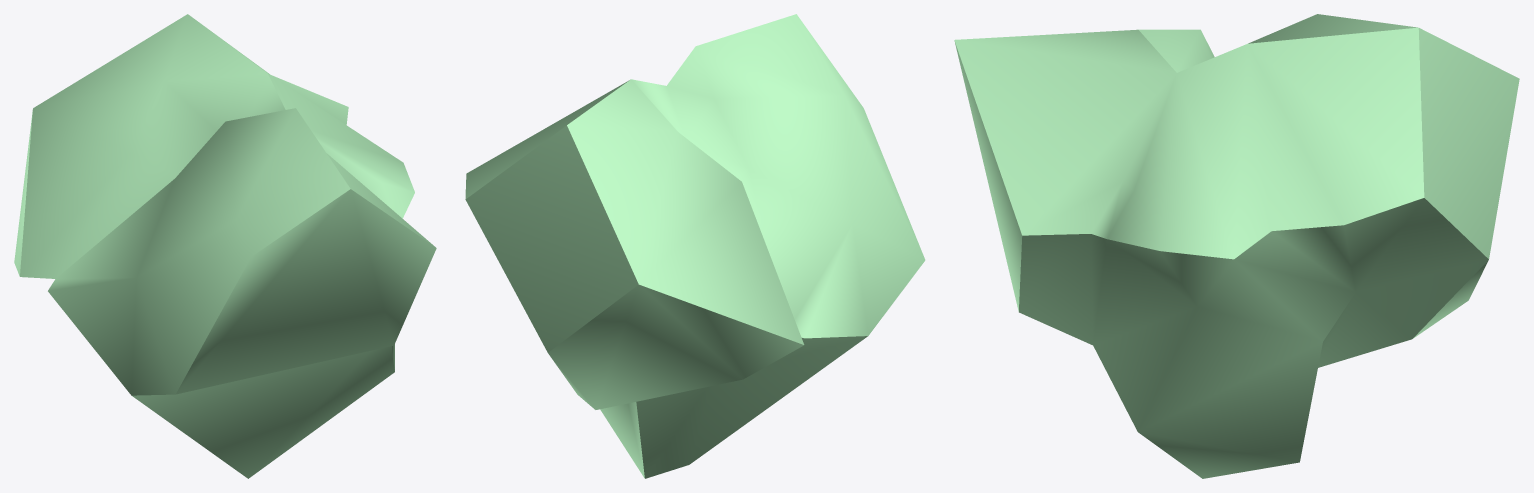
The picture shows the model from 3 angles, left to right: view 1: azimuth 30°, elevation 25°; view 2: azimuth 150°, elevation 25°; view 3: azimuth 270°, elevation 25°; orthographic projection. The views are drawn at different scales.
Visible parts, largest first — view 1: Object21; view 2: Object21; view 3: Object21.
Part boxes in pixels (x1,y1,x2,y2): Object21: (14, 14, 436, 478); Object21: (465, 14, 925, 478); Object21: (954, 14, 1519, 478).
Bounding box in the file's own units: 11619 × 12829 × 14025.
